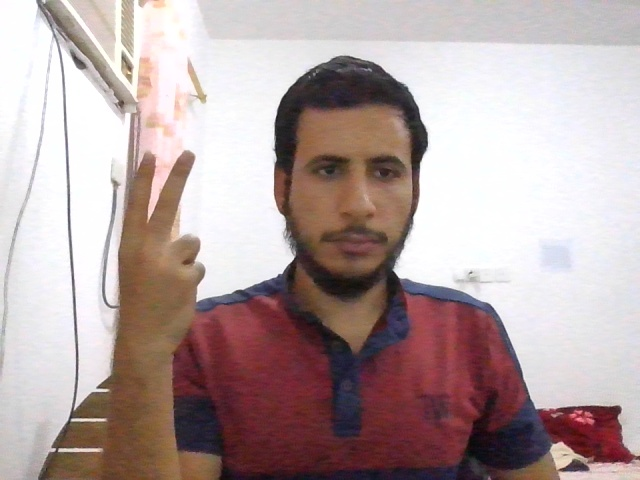Two: (118, 151, 204, 349)
